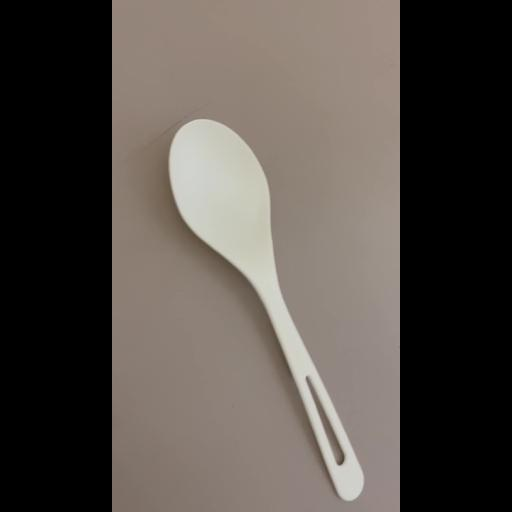utensil: (163, 112, 389, 512)
